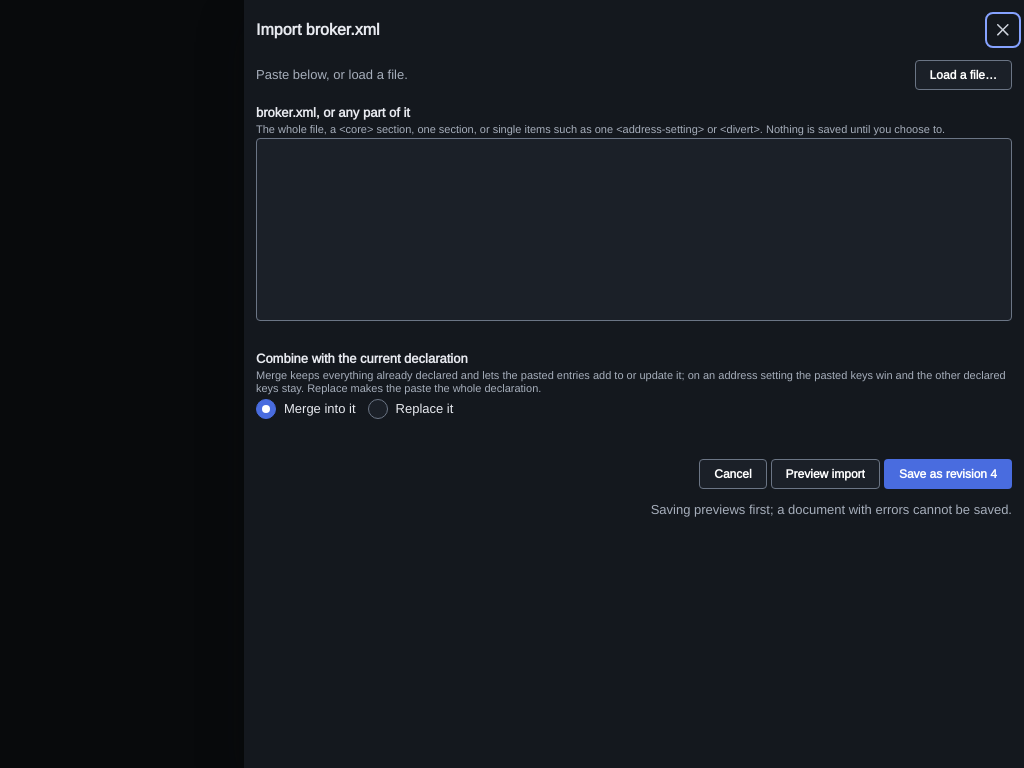
Test case: ImportXmlDrawer › lists the errors of a pasted document as fields and holds the save until they are fixed
Type "<core/>" into the text box labelled "broker.xml, or any part of it".
click(634, 230); type("<core/>")  # box left=256, top=138, right=1012, bottom=321
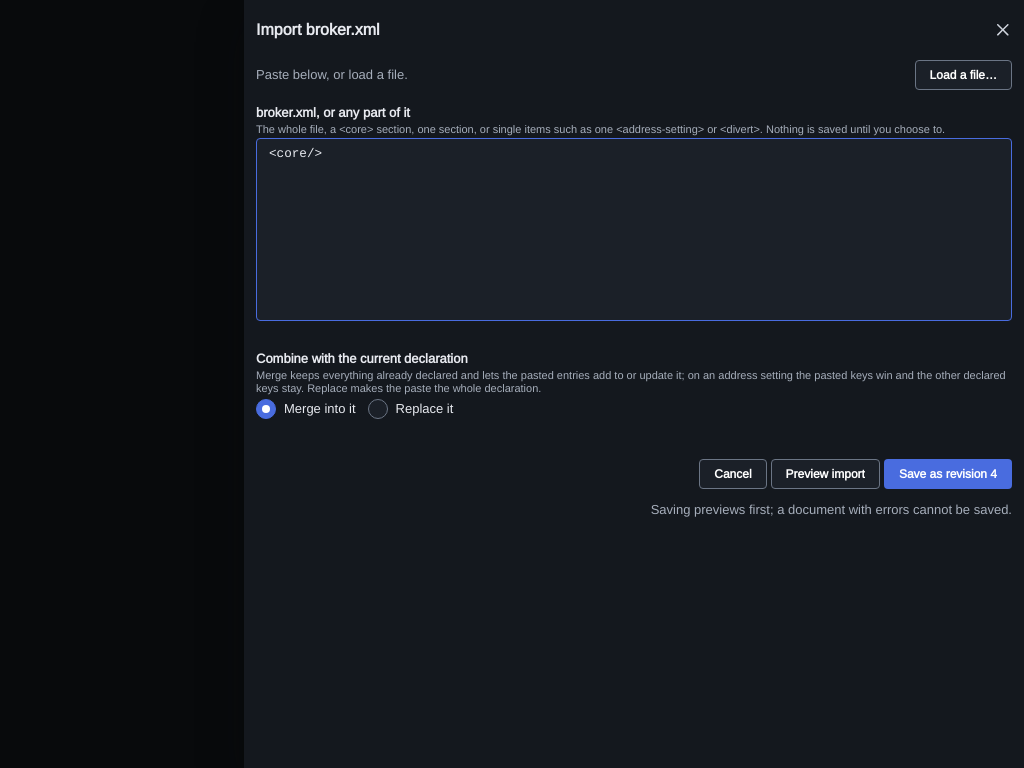
Click the button "Preview import".
click(825, 474)  # box left=771, top=459, right=880, bottom=489
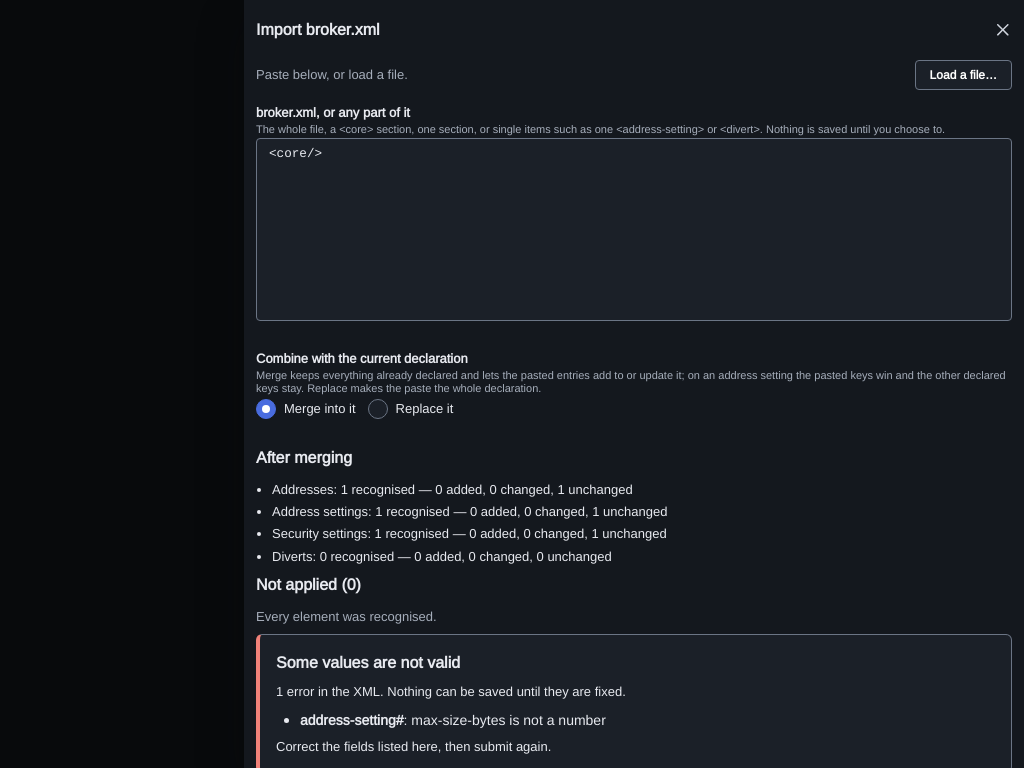
Now the message shows "1 error in the XML", box left=276, top=683, right=626, bottom=700
Now the text "address-setting#" is shown, box left=300, top=710, right=404, bottom=728
Now the list item "address-setting#: max-size-bytes is not a number" is shown, box left=300, top=710, right=606, bottom=730
